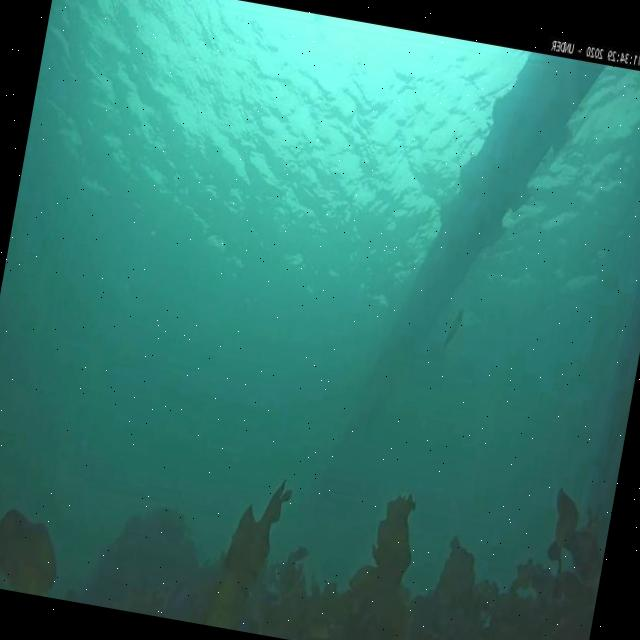fish: (438, 302, 464, 353)
